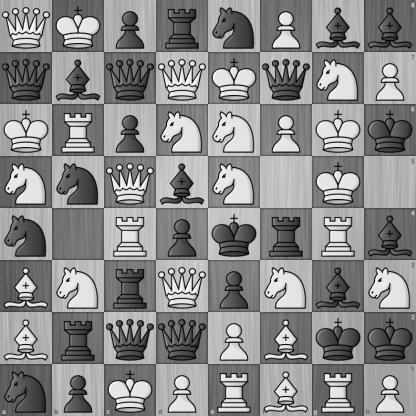B: (260, 364, 312, 416), (1, 261, 52, 312), (1, 313, 52, 364), (261, 313, 312, 364)
K: (104, 364, 156, 416), (1, 105, 52, 156), (53, 1, 104, 52), (209, 53, 260, 104), (313, 105, 364, 156), (313, 157, 364, 208)
N: (364, 260, 416, 312), (1, 157, 52, 208), (53, 261, 104, 312), (157, 105, 208, 156), (209, 105, 260, 156), (209, 157, 260, 208), (261, 261, 312, 312), (313, 53, 364, 104)
P: (156, 364, 209, 416), (364, 52, 416, 104), (364, 364, 416, 416), (209, 313, 260, 364), (261, 1, 312, 52), (261, 105, 312, 156)
Q: (1, 1, 52, 52), (105, 157, 156, 208), (157, 53, 208, 104), (157, 261, 208, 312)
R: (312, 364, 364, 416), (209, 364, 260, 416), (53, 105, 104, 156), (105, 209, 156, 260), (313, 209, 364, 260)
b: (364, 0, 416, 52), (364, 209, 416, 260), (53, 53, 104, 104), (157, 157, 208, 208), (313, 1, 364, 52), (313, 261, 364, 312)
board: (0, 0, 415, 415)
k: (364, 104, 416, 156), (364, 312, 416, 364), (209, 209, 260, 260), (313, 313, 364, 364)
n: (0, 364, 52, 416), (1, 209, 52, 260), (53, 157, 104, 208), (209, 1, 260, 52)
p: (52, 364, 104, 416), (105, 1, 156, 52), (105, 105, 156, 156), (157, 209, 208, 260), (209, 261, 260, 312)
q: (1, 53, 52, 104), (105, 53, 156, 104), (105, 313, 156, 364), (157, 313, 208, 364), (261, 53, 312, 104)
r: (53, 313, 104, 364), (105, 261, 156, 312), (157, 1, 208, 52), (261, 209, 312, 260)
